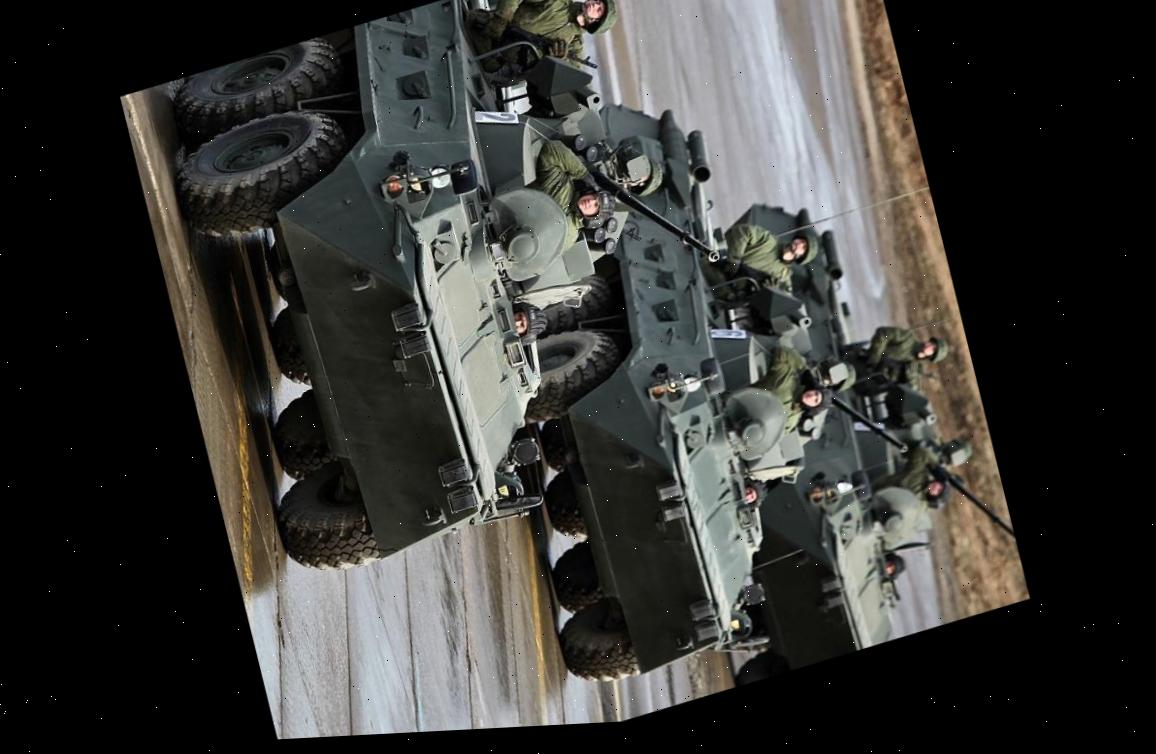person: (468, 118, 634, 276), (444, 0, 632, 101), (696, 203, 827, 303), (724, 335, 837, 446), (837, 301, 950, 390), (854, 436, 960, 530)
tank: (154, 0, 678, 607), (427, 48, 844, 716), (600, 166, 967, 700)
